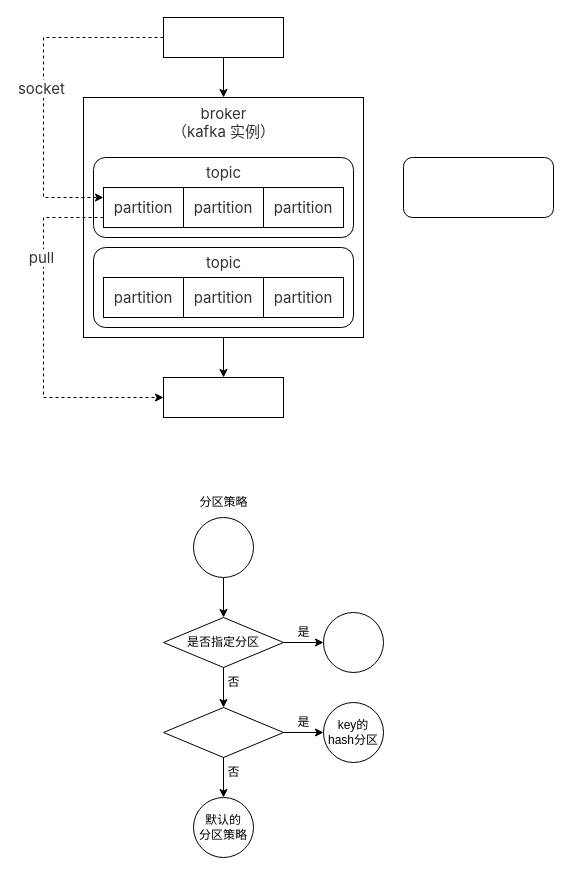
Image size: 571x875. Some labels were removed from this diagram. Here are the shapes that lost their labels. From the top down, the box of each, then its label:
(162, 16, 284, 58): Producer
(402, 156, 554, 218): Offset （消息在文件中的偏移量）
(162, 376, 284, 418): Consumer
(322, 612, 384, 672): 指定的 分区
(162, 706, 284, 758): 是否指定key
